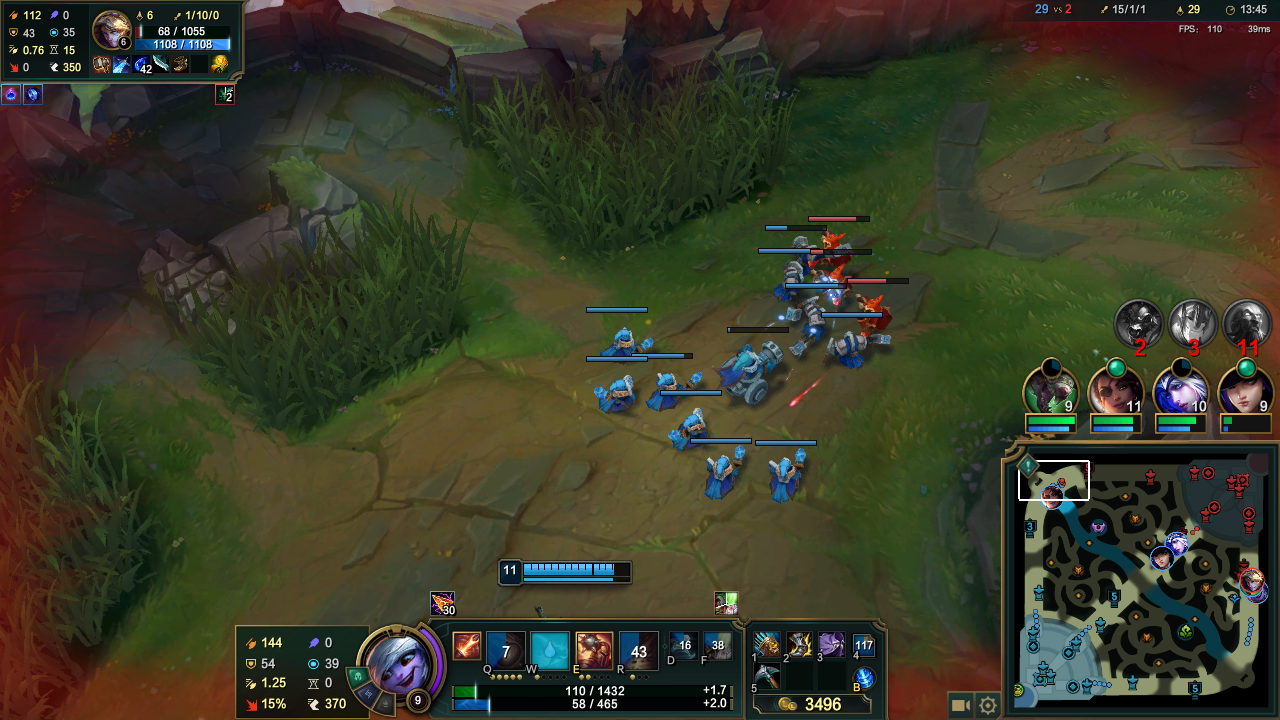DFXB: (855, 290, 912, 346), (819, 236, 857, 274), (821, 264, 851, 297)
WFXB: (713, 335, 789, 411), (695, 443, 757, 507), (760, 446, 819, 506), (788, 295, 838, 357), (592, 320, 657, 364), (767, 260, 810, 322), (832, 329, 891, 371), (647, 369, 706, 405), (665, 406, 717, 446), (595, 371, 642, 415), (779, 232, 820, 271)
Yita: (1186, 675, 1208, 700)
